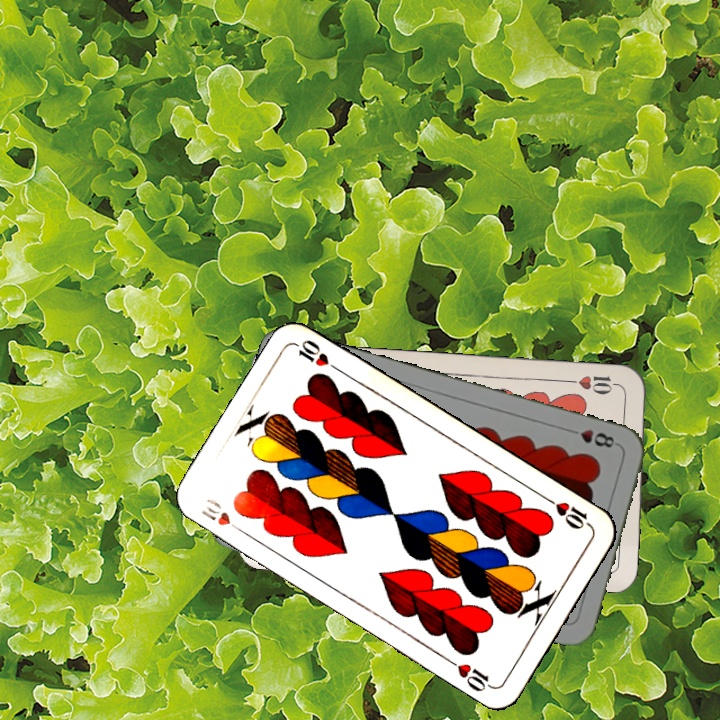H10: (197, 494, 248, 537), (541, 493, 594, 532), (564, 371, 623, 397)
H8: (563, 425, 621, 451)
